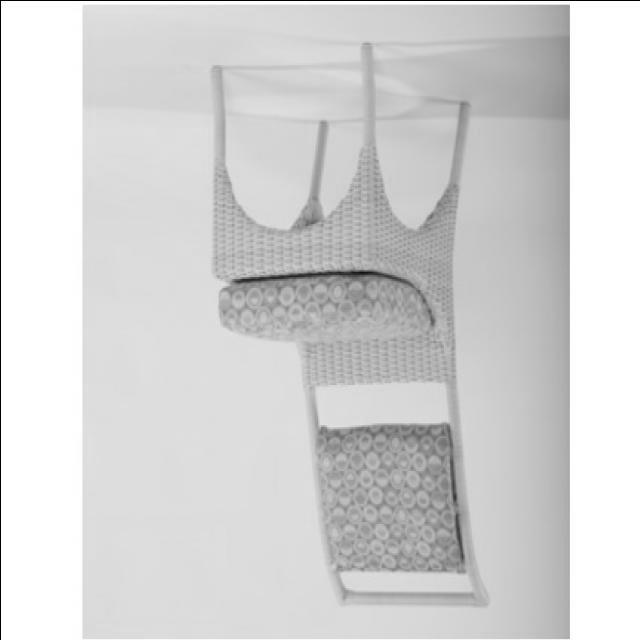chair: (205, 38, 490, 605)
